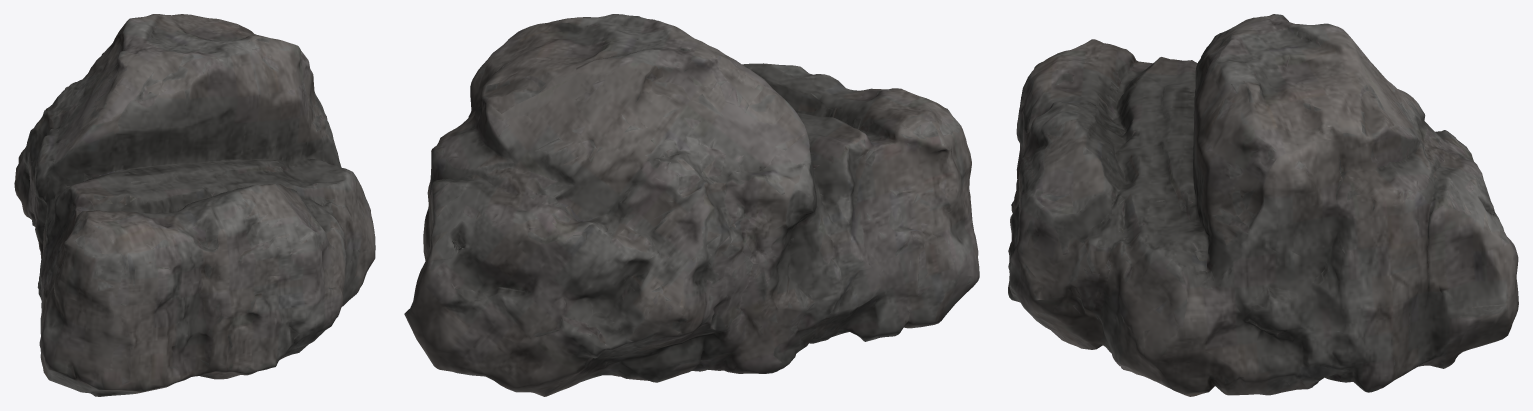
The model's file is SM_rock_01.glb.
3 views of the same model, side by side, from view 1: azimuth 30°, elevation 25°; view 2: azimuth 150°, elevation 25°; view 3: azimuth 270°, elevation 25° (orthographic). The views are drawn at different scales.
Visible parts, largest first — view 1: SM_rock_01; view 2: SM_rock_01; view 3: SM_rock_01.
Boxes of the visible parts, box(x1,y1,x2,y2) form: SM_rock_01: box(14, 14, 375, 396); SM_rock_01: box(404, 14, 979, 396); SM_rock_01: box(1008, 14, 1518, 396).
Bounding box in the file's own units: 3.3 × 2.36 × 3.55.
1 material, 1 textured.
